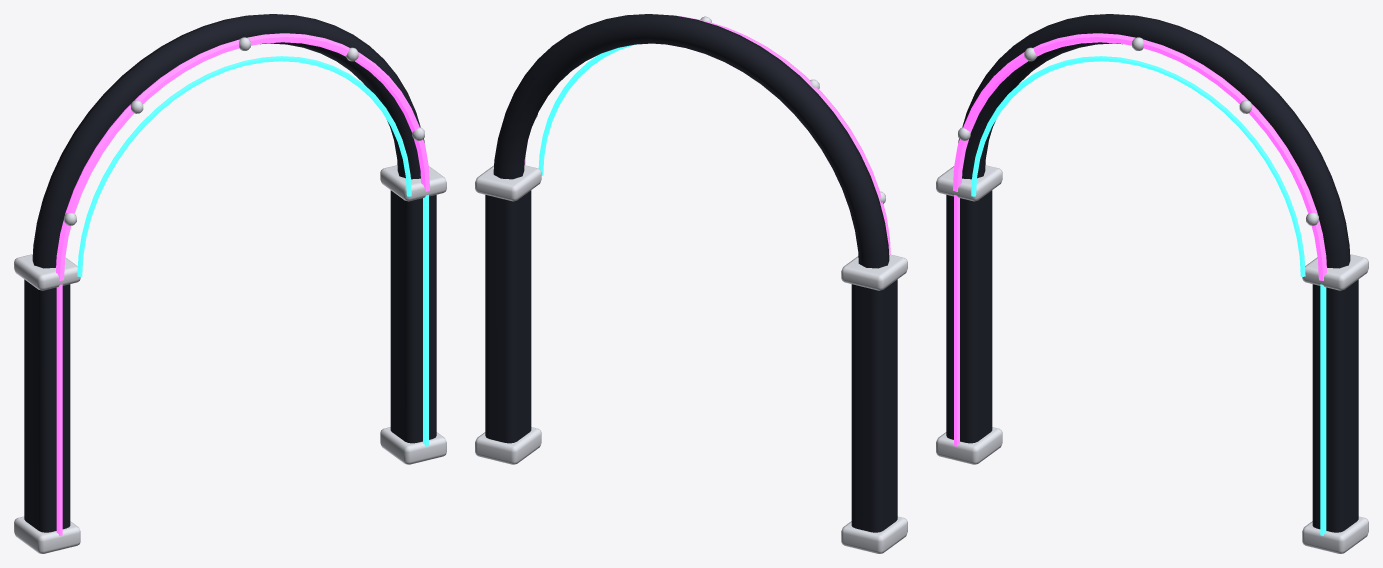
The model's file is neon_arch_gate.glb.
The picture shows the model from 3 angles, left to right: view 1: azimuth 30°, elevation 25°; view 2: azimuth 150°, elevation 25°; view 3: azimuth 330°, elevation 25°; orthographic projection.
Parts seen in each view (by area): view 1: neon_arch_gate; view 2: neon_arch_gate; view 3: neon_arch_gate.
Part boxes in pixels (x1,y1,x2,y2): neon_arch_gate: [14, 14, 446, 553]; neon_arch_gate: [475, 14, 907, 553]; neon_arch_gate: [936, 14, 1368, 553].
Bounding box in the file's own units: 2.68 × 2.99 × 0.358.
